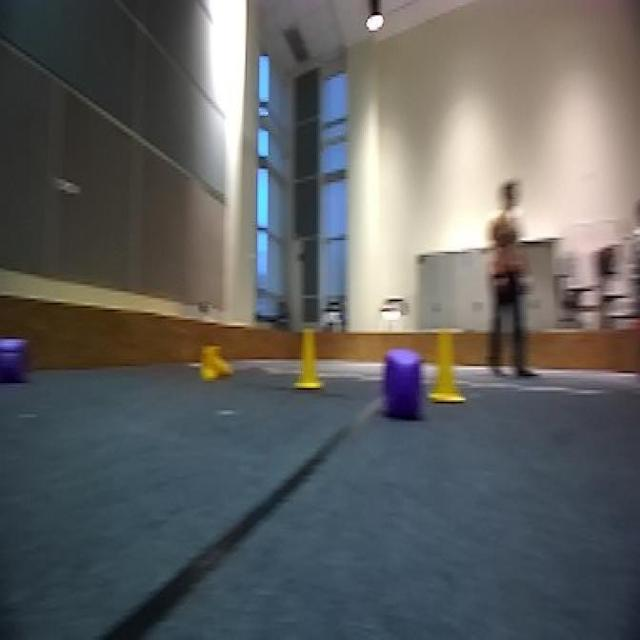frc_cone: (428, 332, 464, 407), (290, 325, 326, 390), (196, 340, 234, 383)
frc_cube: (383, 347, 425, 417), (0, 339, 30, 390)
